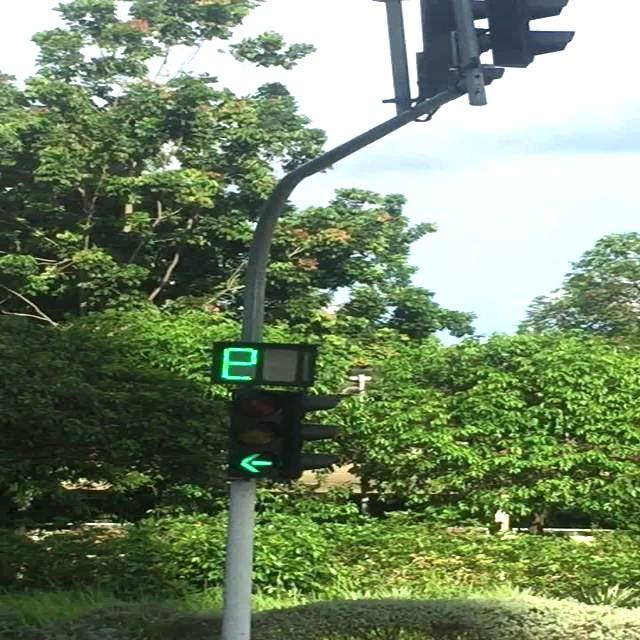Green: (231, 389, 281, 479)
